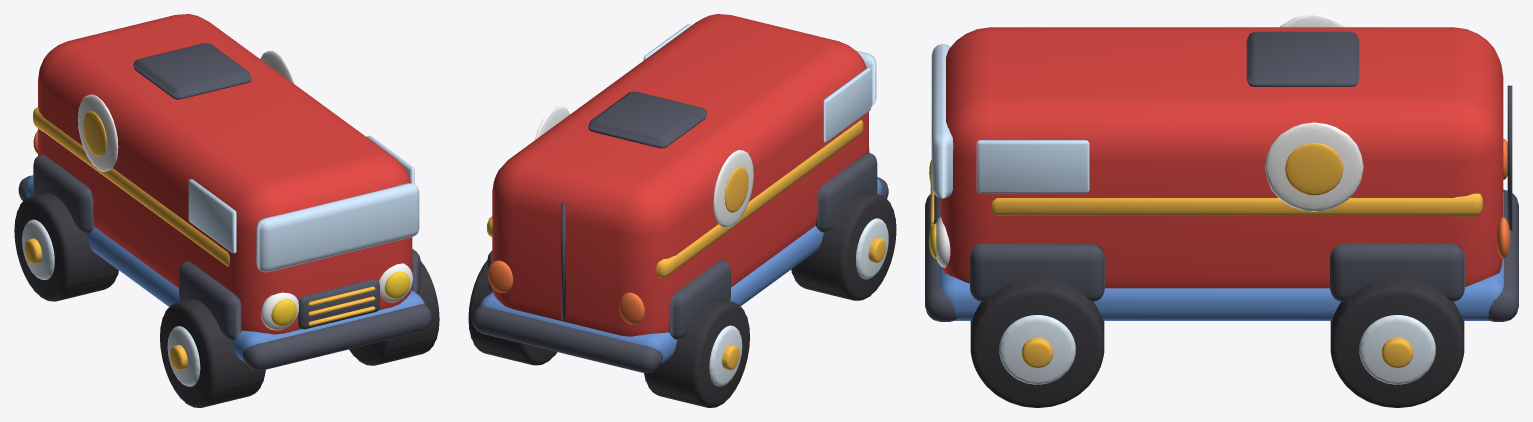
Rendered from toy-brick.glb.
3 renders of one model, left to right at view 1: azimuth 30°, elevation 25°; view 2: azimuth 150°, elevation 25°; view 3: azimuth 270°, elevation 25°, orthographic. The views are drawn at different scales.
Parts seen in each view (by area): view 1: body, wheel-front-right, wheel-back-right, grill, wheel-front-left; view 2: body, wheel-back-right, wheel-front-right, wheel-back-left; view 3: body, wheel-back-left, wheel-front-left.
Part boxes in pixels (x1,y1,x2,y2): body: (18,14,431,370); wheel-front-right: (160,299,265,407); wheel-back-right: (14,192,118,301); grill: (298,279,379,329); wheel-front-left: (349,261,439,365); body: (472,14,888,372); wheel-back-right: (644,298,749,407); wheel-front-right: (791,191,896,300); wheel-back-left: (468,260,557,365); body: (925,14,1518,321); wheel-back-left: (1330,278,1464,407); wheel-front-left: (970,278,1104,407).
Size of the model in its own units: 1.58 by 1.42 by 2.64.
1 material, 1 textured.
